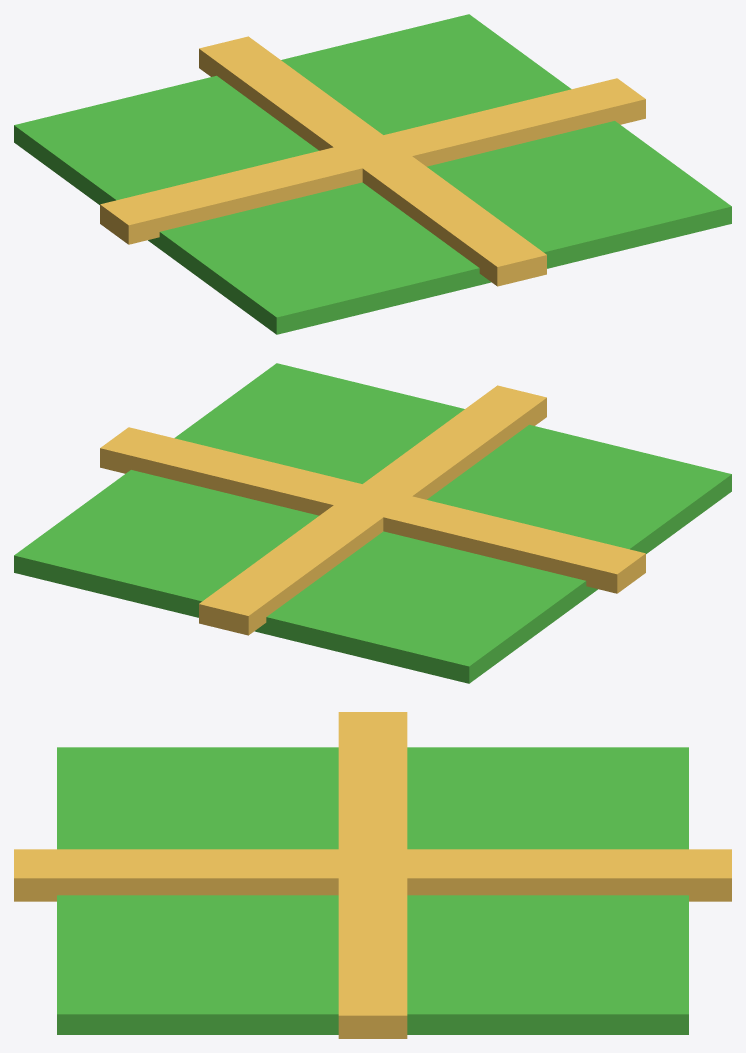
Rendered from marker.hold_position.glb.
3 renders of one model, top to bottom at view 1: azimuth 30°, elevation 25°; view 2: azimuth 150°, elevation 25°; view 3: azimuth 270°, elevation 25°, orthographic. The views are drawn at different scales.
Parts seen in each view (by area): view 1: hold_disc, hold_cross_a, hold_cross_b; view 2: hold_disc, hold_cross_a, hold_cross_b; view 3: hold_disc, hold_cross_b, hold_cross_a.
Boxes of the visible parts, bbox=[...] form: hold_disc: bbox=[14, 14, 731, 334]; hold_cross_a: bbox=[100, 78, 645, 244]; hold_cross_b: bbox=[199, 36, 546, 286]; hold_disc: bbox=[14, 363, 731, 683]; hold_cross_a: bbox=[100, 427, 645, 593]; hold_cross_b: bbox=[199, 385, 546, 635]; hold_disc: bbox=[57, 747, 688, 1034]; hold_cross_b: bbox=[14, 849, 731, 901]; hold_cross_a: bbox=[338, 712, 407, 1038].
Bounding box in the file's own units: 1.25 × 0.0725 × 1.25.
